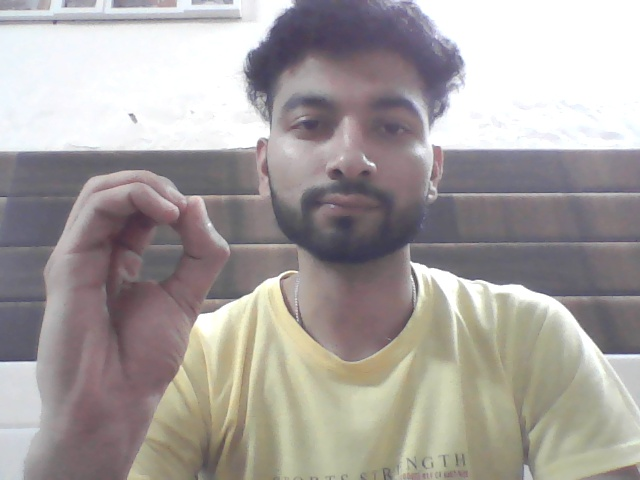No: (19, 167, 237, 445)
